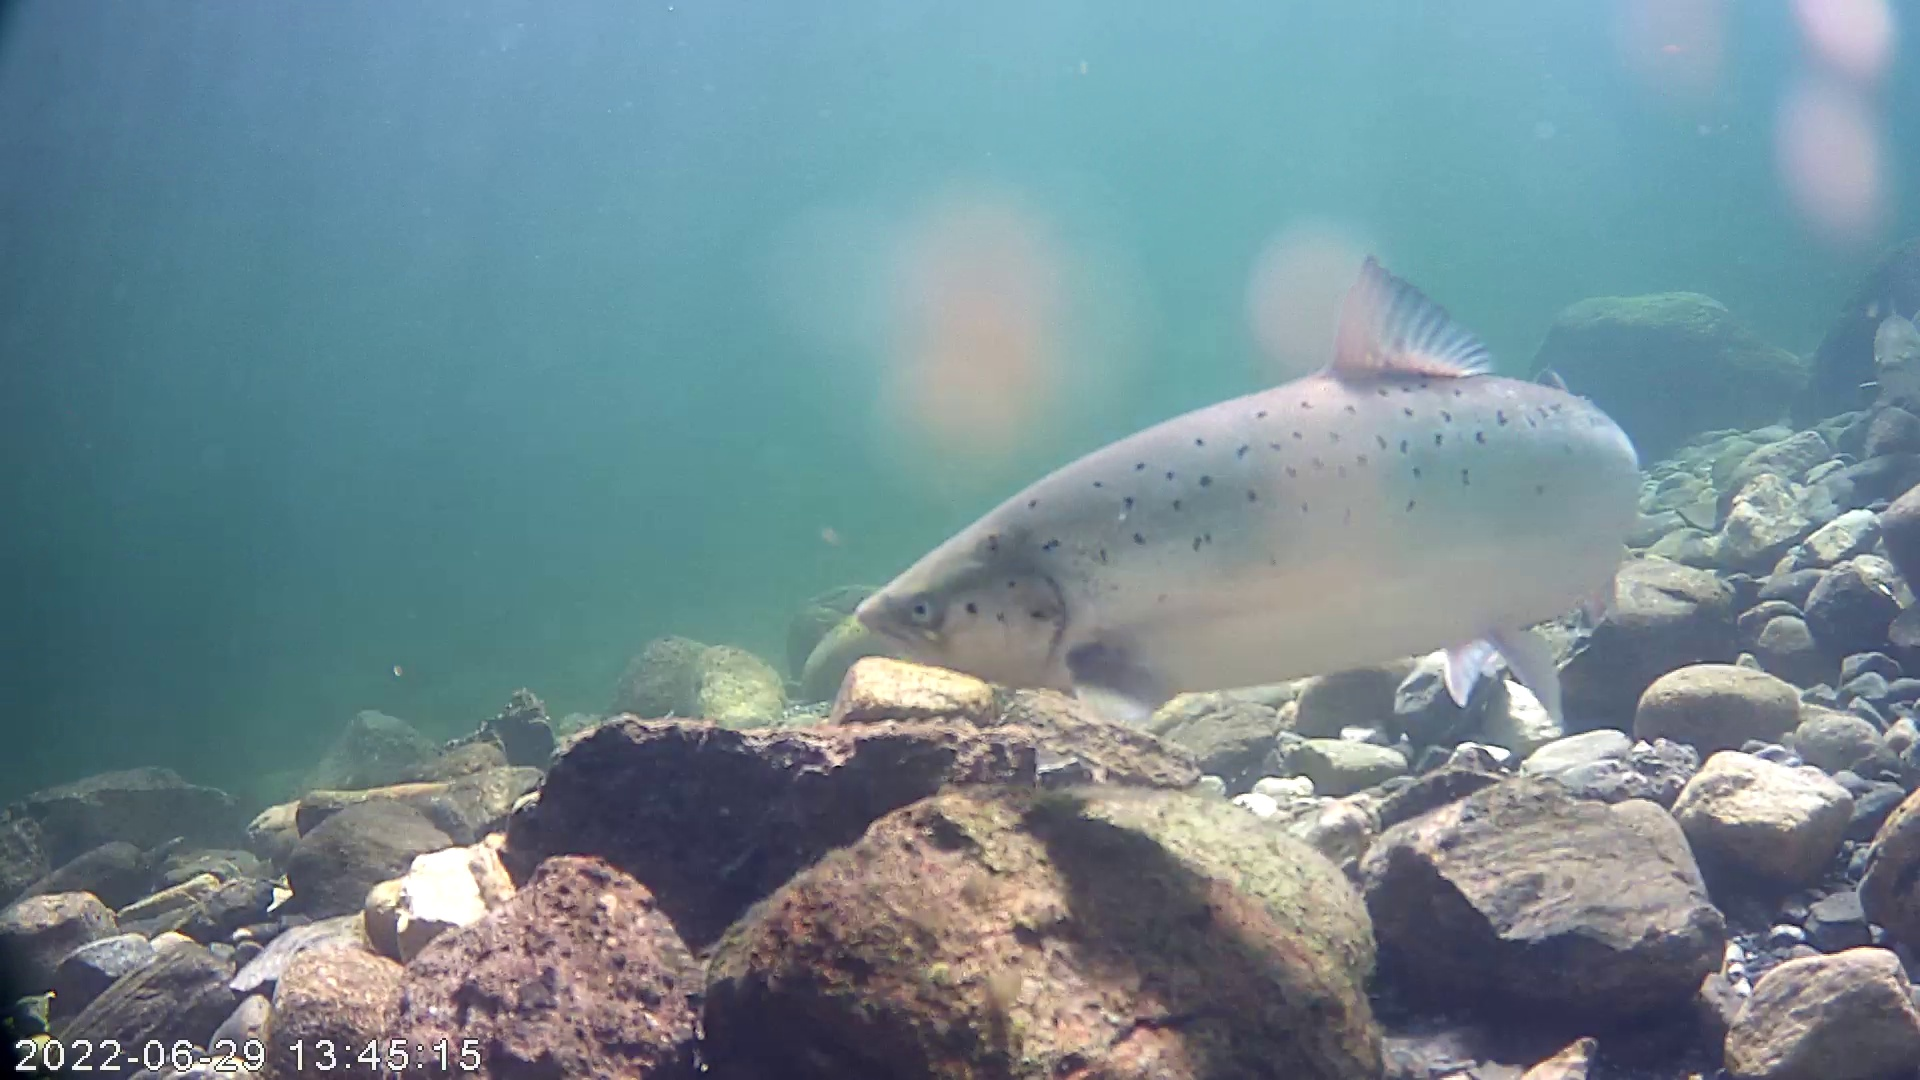salmon: (844, 262, 1667, 757)
